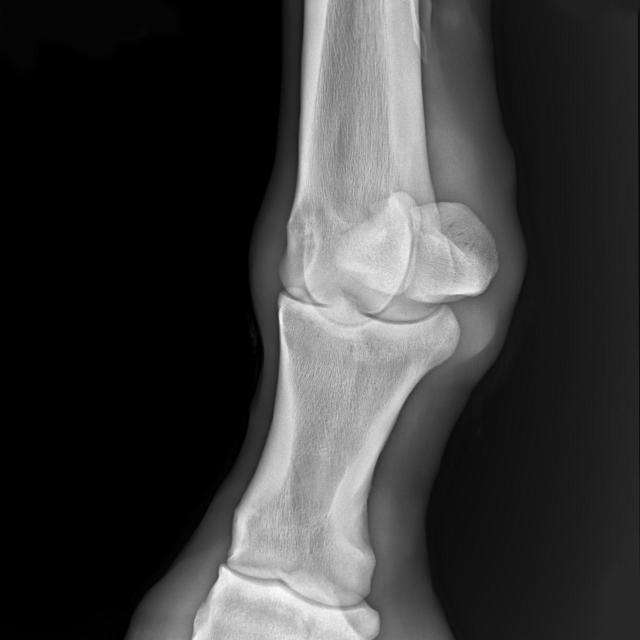joint-ht8A: (240, 146, 532, 430)
